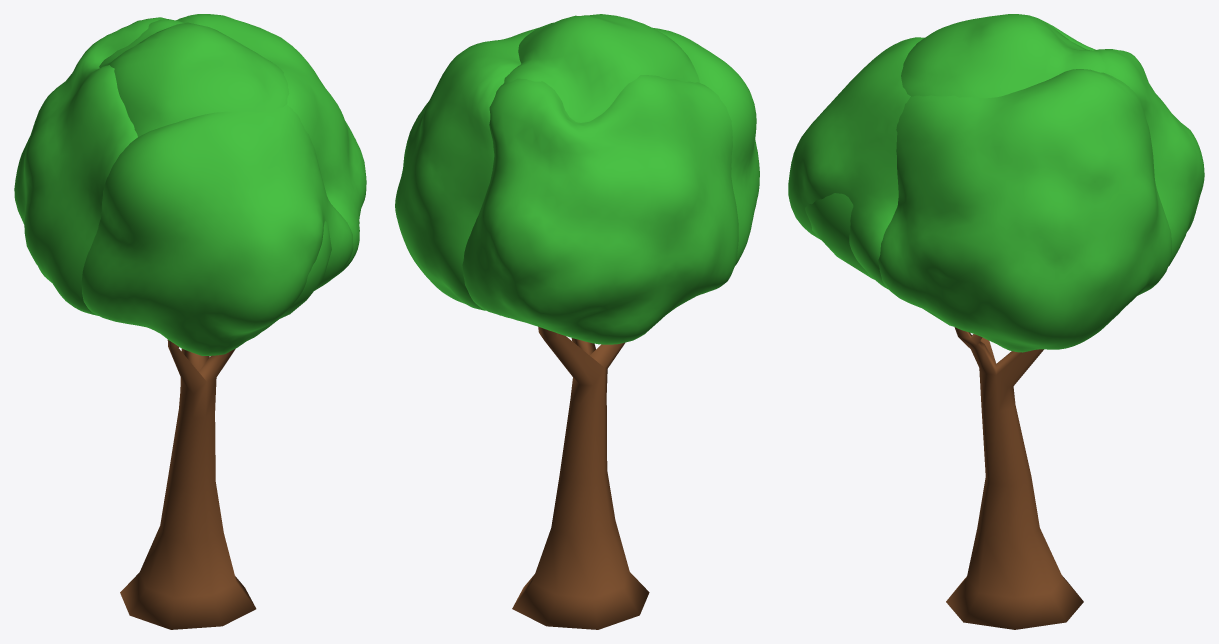
The model's file is træ.fbx.
3 views of the same model, side by side, from view 1: azimuth 30°, elevation 25°; view 2: azimuth 150°, elevation 25°; view 3: azimuth 270°, elevation 25° (orthographic).
Parts seen in each view (by area): view 1: Icosphere.002, Cube, Icosphere.004; view 2: Icosphere.002, Cube; view 3: Icosphere.002, Cube, Icosphere.004.
Part boxes in pixels (box(x1,y1,x2,y2)): Icosphere.002: box(14, 14, 366, 355); Cube: box(120, 339, 256, 629); Icosphere.004: box(278, 221, 331, 319); Icosphere.002: box(395, 14, 759, 344); Cube: box(512, 326, 649, 629); Icosphere.002: box(788, 14, 1204, 352); Cube: box(946, 327, 1083, 629); Icosphere.004: box(805, 193, 873, 279).
Bounding box in the file's own units: 1015 × 1778 × 1158.
